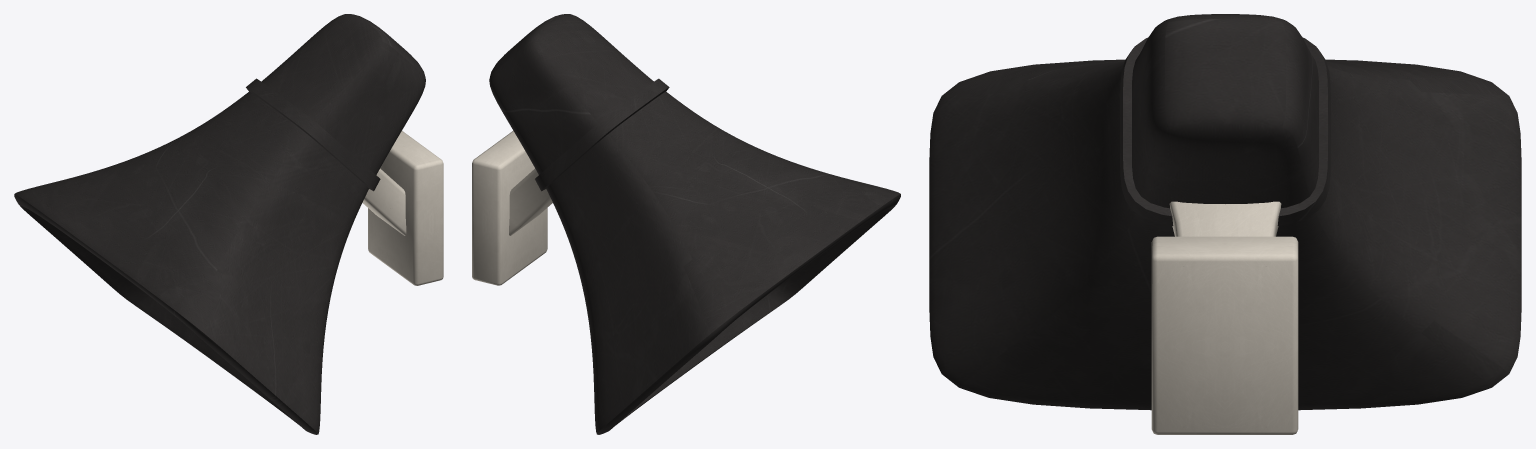
The model's file is Speaker Straight.fbx.
3 views of the same model, side by side, from view 1: azimuth 30°, elevation 25°; view 2: azimuth 150°, elevation 25°; view 3: azimuth 270°, elevation 25° (orthographic). The views are drawn at different scales.
Parts seen in each view (by area): view 1: SpeakerOuter, Speaker Mount, Connector; view 2: SpeakerOuter, Speaker Mount, Connector; view 3: SpeakerOuter, Speaker Mount, Connector.
Part boxes in pixels (x1,y1,x2,y2): SpeakerOuter: (14,14,425,434); Speaker Mount: (368,131,443,285); Connector: (362,168,406,235); SpeakerOuter: (489,14,900,434); Speaker Mount: (472,130,547,285); Connector: (509,168,552,235); SpeakerOuter: (929,14,1521,410); Speaker Mount: (1151,236,1298,434); Connector: (1169,201,1281,236).
Bounding box in the file's own units: 2.79 × 2.92 × 2.64.
